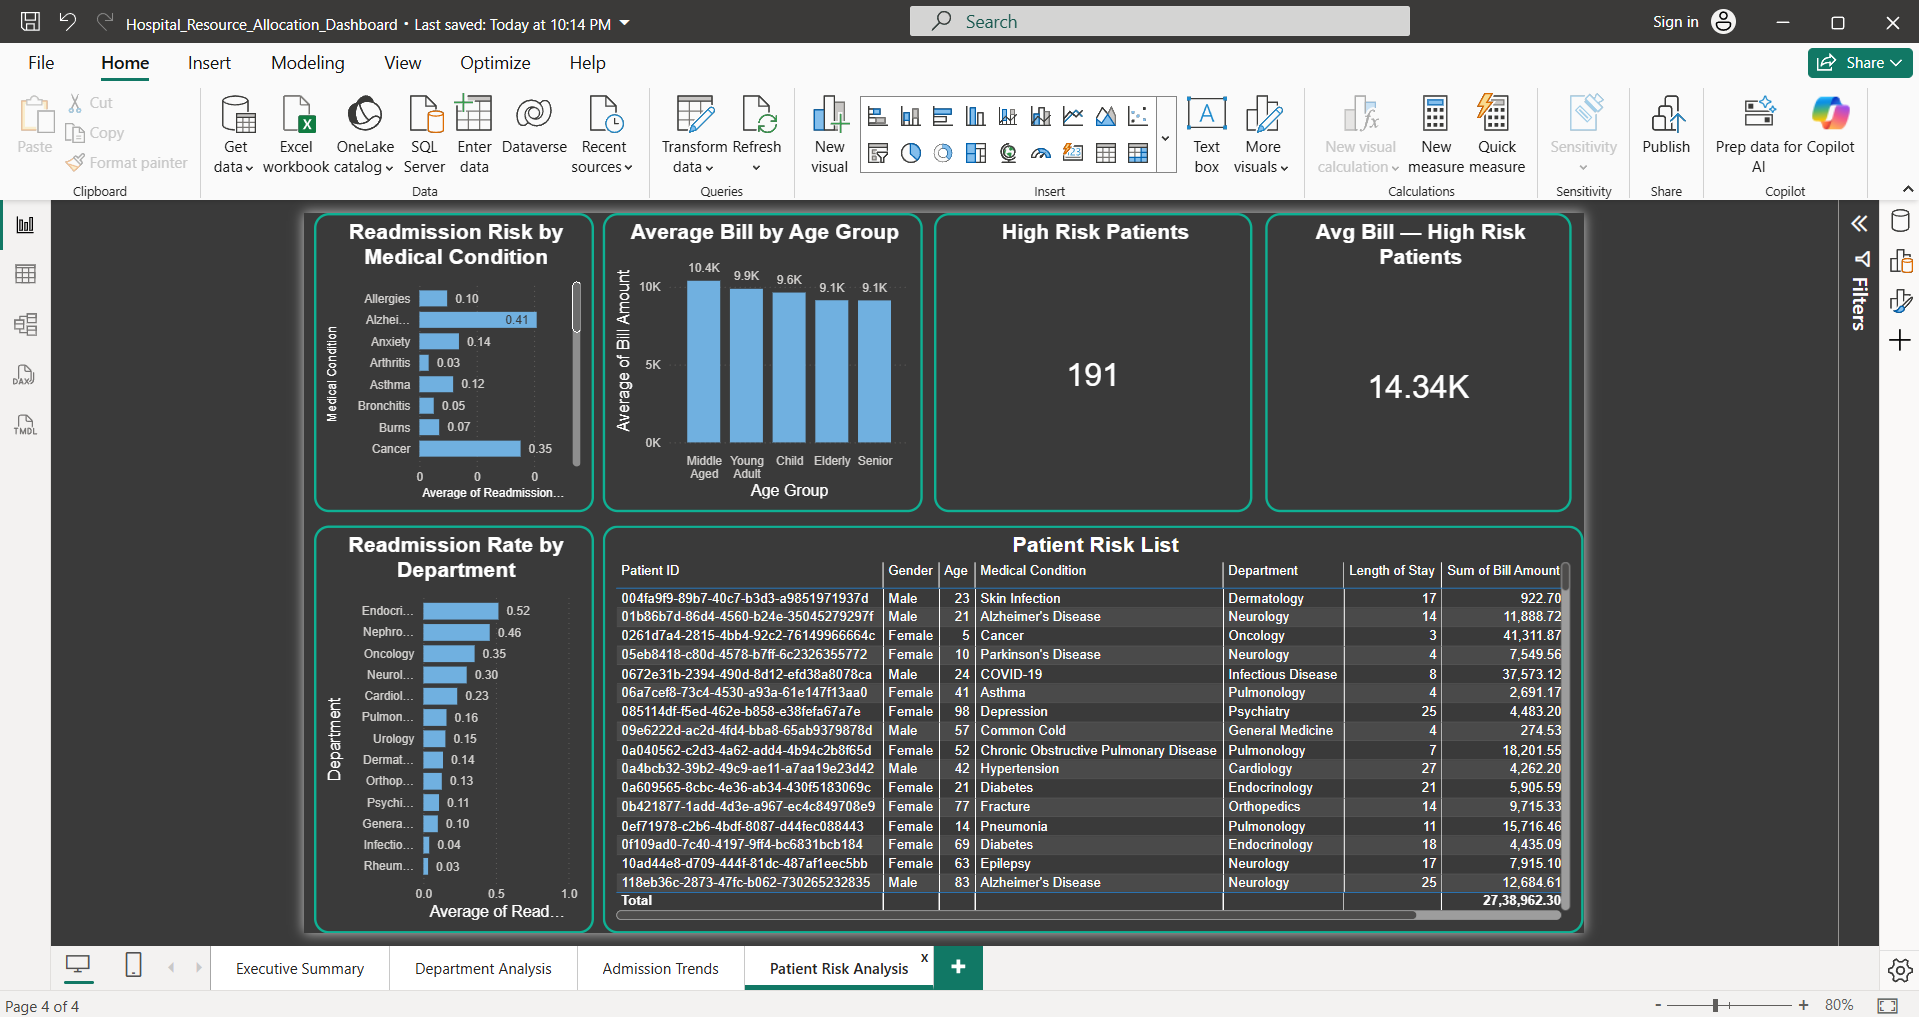

The page's visual inventory and layout, read from the dashboard file:
{"tool":"powerbi","page":{"name":"Patient Risk Analysis","canvas":[1280,720],"ordinal":3},"visuals":[{"type":"clusteredBarChart","title":"Readmission Risk by Medical Condition","fields":{"Category":["Conditions.Medical Condition"],"Y":["Avg(Conditions.Readmission_Rate)"]},"box":[9.7,0,279.9,299.2],"z":0},{"type":"clusteredColumnChart","title":"Average Bill by Age Group","fields":{"Category":["Patients.Age Group"],"Y":["Avg(Patients.Bill Amount)"]},"box":[299.2,0,319.7,299.2],"z":1},{"type":"tableEx","title":"Patient Risk List","fields":{"Values":["Patients.Patient ID","Patients.Gender","Patients.Age","Patients.Medical Condition","Patients.Department","Patients.Length of Stay","Sum(Patients.Bill Amount)","Sum(Patients.Readmission Risk)"]},"box":[299.2,312.5,980.8,407.8],"z":2},{"type":"clusteredBarChart","title":"Readmission Rate by Department","fields":{"Category":["Dept Summary.Department"],"Y":["Avg(Dept Summary.Readmission_Rate)"]},"box":[9.7,312.5,279.9,407.8],"z":3},{"type":"card","title":"High Risk Patients","fields":{"Values":["Sum(Patients.Readmission Risk)"]},"box":[629.8,0,318.5,299.2],"z":4},{"type":"card","title":"Avg Bill — High Risk Patients","fields":{"Values":["Patients.Avg Bill High Risk"]},"box":[961.5,0,306.4,299.2],"z":5}]}

Visuals, with their boxes on the page's 1280x720 design canvas (x1, y1, x2, y2). These are canvas units, not pixel positions in the 1919x1017 screenshot, which may show the page scaled, cropped or inside an application window:
"Readmission Risk by Medical Condition" clusteredBarChart: 10,0,290,299
"Average Bill by Age Group" clusteredColumnChart: 299,0,619,299
"Patient Risk List" tableEx: 299,312,1280,720
"Readmission Rate by Department" clusteredBarChart: 10,312,290,720
"High Risk Patients" card: 630,0,948,299
"Avg Bill — High Risk Patients" card: 962,0,1268,299
